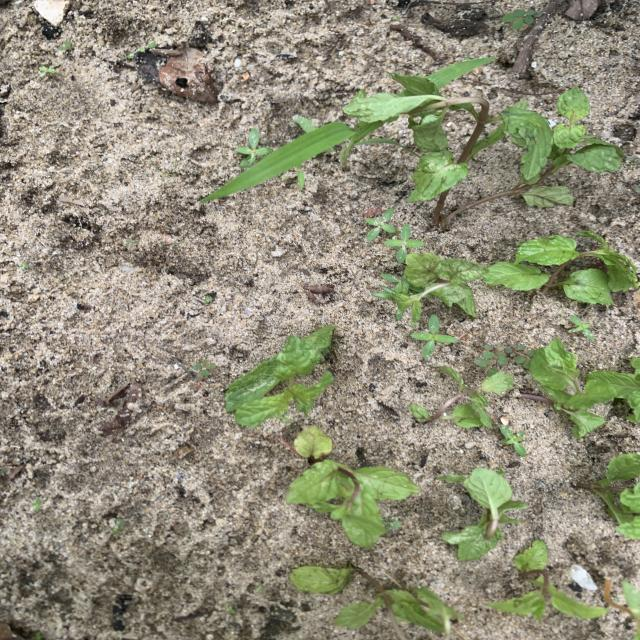crop: (343, 76, 622, 229), (286, 428, 418, 546), (289, 564, 459, 637), (483, 232, 637, 303), (225, 325, 332, 425), (521, 339, 617, 438), (491, 540, 604, 619), (439, 469, 526, 558), (394, 253, 486, 326), (410, 367, 511, 427), (577, 454, 639, 537), (588, 357, 640, 423)
weed: (200, 120, 404, 203), (604, 580, 640, 635), (412, 316, 456, 356), (236, 128, 273, 170), (384, 224, 423, 263), (373, 274, 409, 299), (366, 208, 395, 239), (501, 9, 542, 28), (476, 346, 508, 368), (501, 426, 524, 455), (570, 316, 593, 338), (503, 345, 530, 363), (191, 360, 215, 377), (110, 519, 123, 534), (39, 65, 55, 76), (58, 41, 71, 51), (31, 498, 41, 511), (124, 239, 138, 247), (203, 295, 212, 303)
